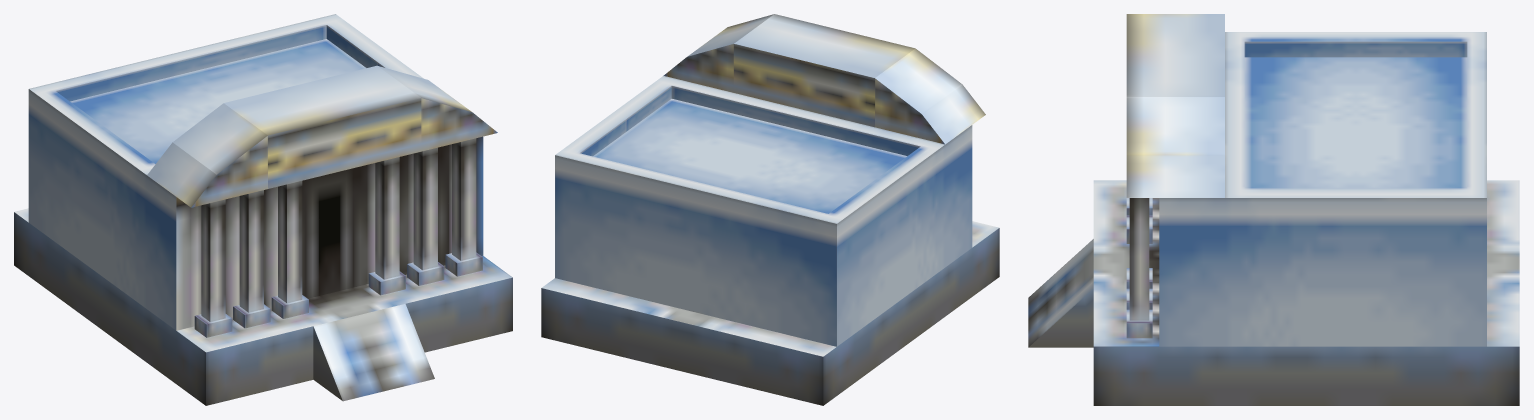
Rendered from Poly_World_Map_Ancient_Building_02_C.obj.
3 renders of one model, left to right at view 1: azimuth 30°, elevation 25°; view 2: azimuth 150°, elevation 25°; view 3: azimuth 270°, elevation 25°, orthographic. The views are drawn at different scales.
Parts seen in each view (by area): view 1: Cube, Cube.001, Cube.004, Cube.002, Cube.003; view 2: Cube, Cube.004, Cube.001; view 3: Cube, Cube.004, Cube.001, Cube.003, Cube.002.
Part boxes in pixels (box(x1,y1,x2,y2)): Cube: box(14, 65, 497, 330); Cube.001: box(14, 212, 512, 405); Cube.004: box(29, 14, 423, 174); Cube.002: box(194, 138, 482, 337); Cube.003: box(177, 256, 512, 352); Cube: box(542, 14, 985, 356); Cube.004: box(555, 76, 944, 223); Cube.001: box(541, 228, 999, 405); Cube: box(1126, 14, 1519, 346); Cube.004: box(1225, 32, 1486, 197); Cube.001: box(1028, 239, 1519, 405); Cube.003: box(1093, 180, 1159, 346); Cube.002: box(1126, 198, 1152, 338).
Bounding box in the file's own units: 1.2 × 0.9 × 1.5.
1 material, 1 textured.
